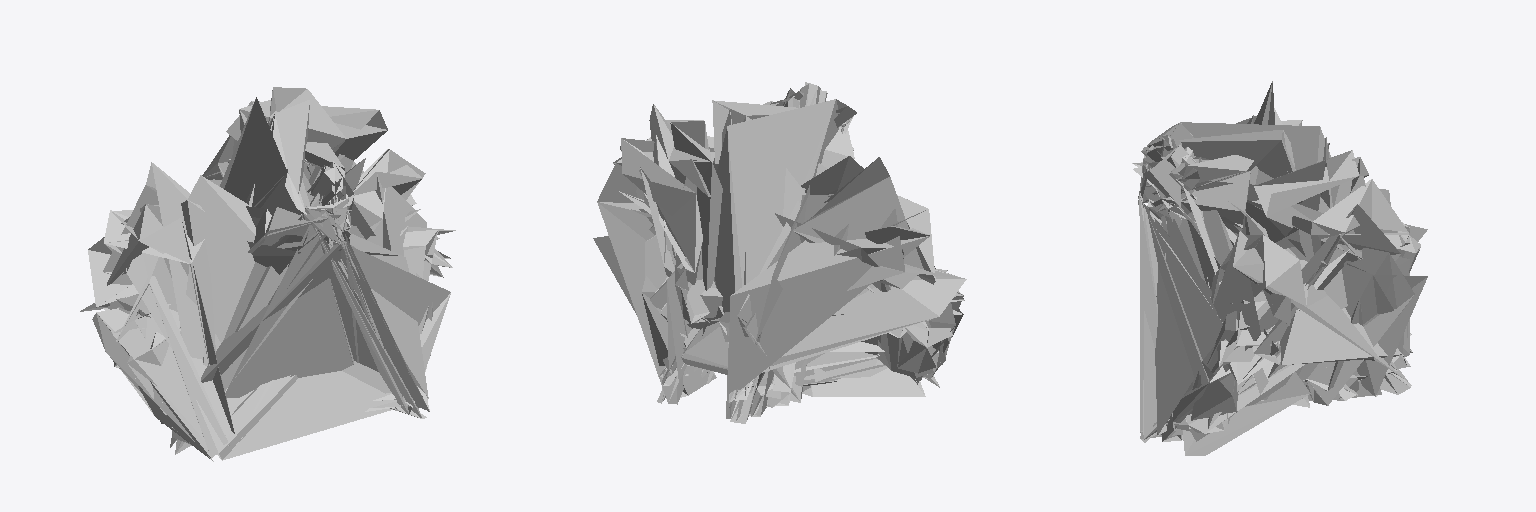
File: Yety.obj
The picture shows the model from 3 angles: view 1: azimuth 30°, elevation 25°; view 2: azimuth 150°, elevation 25°; view 3: azimuth 270°, elevation 25°; orthographic projection.
Parts seen in each view (by area): view 1: yeti; view 2: yeti; view 3: yeti.
Part boxes in pixels (bbox=[...]): yeti: bbox=[80, 87, 455, 461]; yeti: bbox=[593, 82, 966, 423]; yeti: bbox=[1132, 81, 1427, 455].
Size of the model in its own units: 0.9111 by 0.6926 by 0.652.